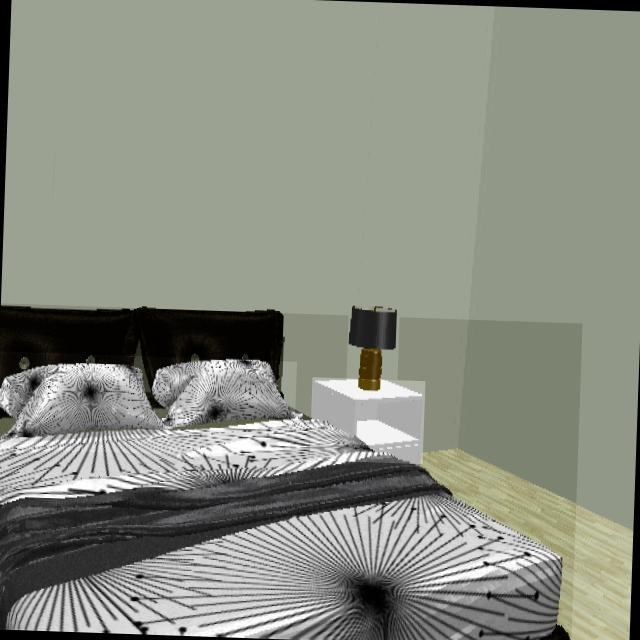bed: (0, 308, 566, 640)
lamp: (347, 305, 399, 395)
nighttable: (311, 378, 423, 463)
pillow: (0, 360, 295, 451)
